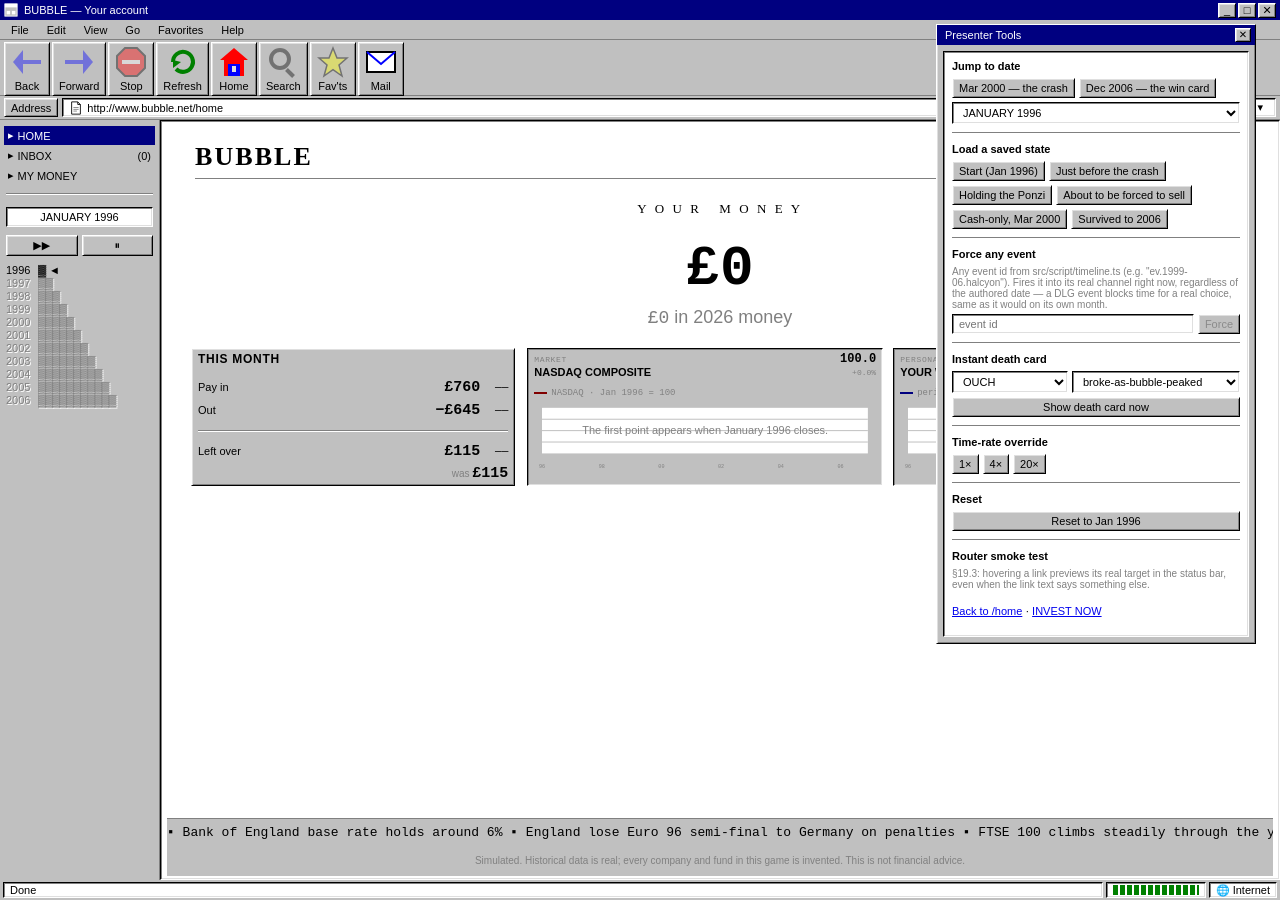
Scenario: §25.5 fallback sweep — mount every page at the dates named in the brief, confirm nothing throws › Dec 2006 — "Survived to 2006" reaches the end of the decade with real holdings; renders without throwing
What coordinates should you click on to do the following:
click the button with class "bevel-out" showing "Survived to 2006"
I would click on:
 (1120, 219)
Its box is x1=1071 y1=209 x2=1168 y2=229.
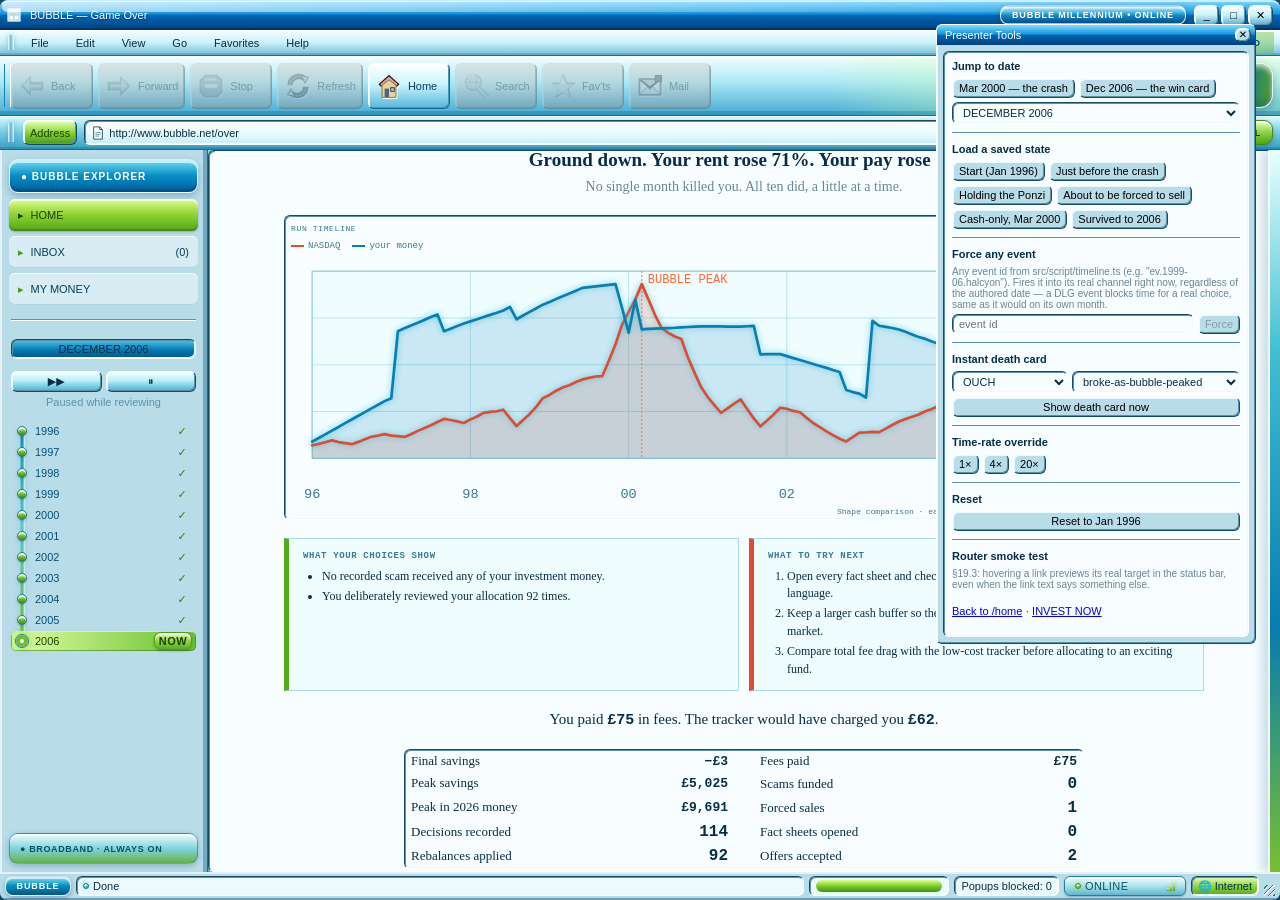
Expected: the element with class "deathcard-page" is shown
Expected: the text "NaN" is gone
